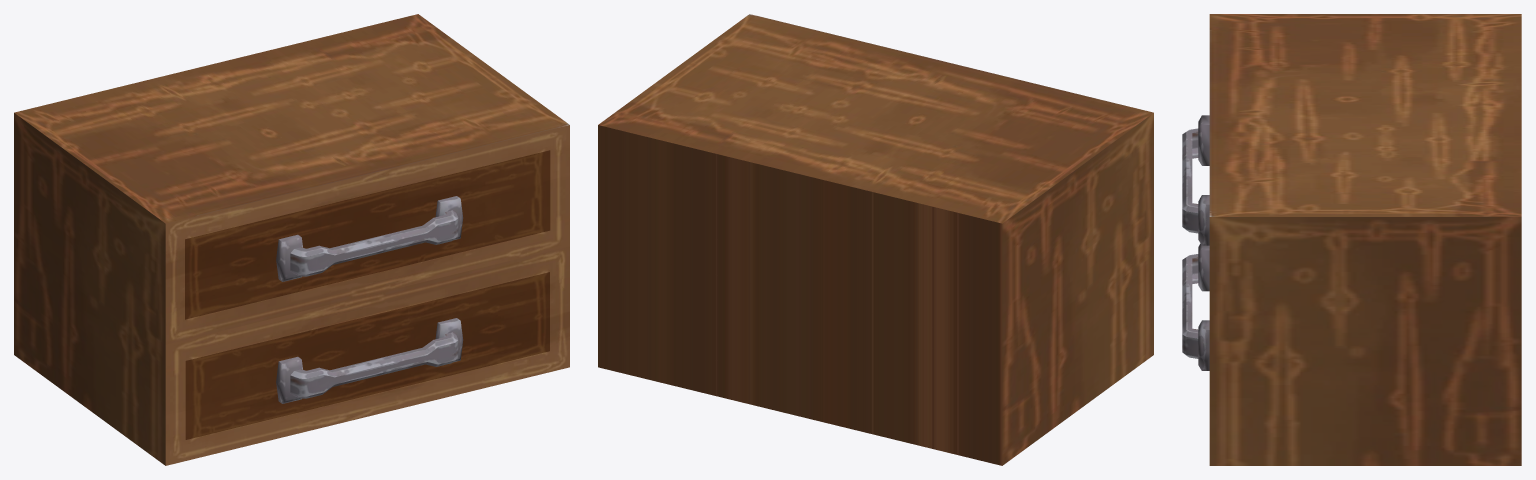
File: Workbench_Drawers.gltf
The picture shows the model from 3 angles, left to right: view 1: azimuth 30°, elevation 25°; view 2: azimuth 150°, elevation 25°; view 3: azimuth 270°, elevation 25°; orthographic projection. The views are drawn at different scales.
Visible parts, largest first — view 1: Workbench_Drawers; view 2: Workbench_Drawers; view 3: Workbench_Drawers.
Part boxes in pixels (x1,y1,x2,y2): Workbench_Drawers: (14,14,569,465); Workbench_Drawers: (598,14,1153,465); Workbench_Drawers: (1182,14,1521,465).
Bounding box in the file's own units: 0.4231 × 0.2423 × 0.299.
Materials: 2 (2 with a texture image).
